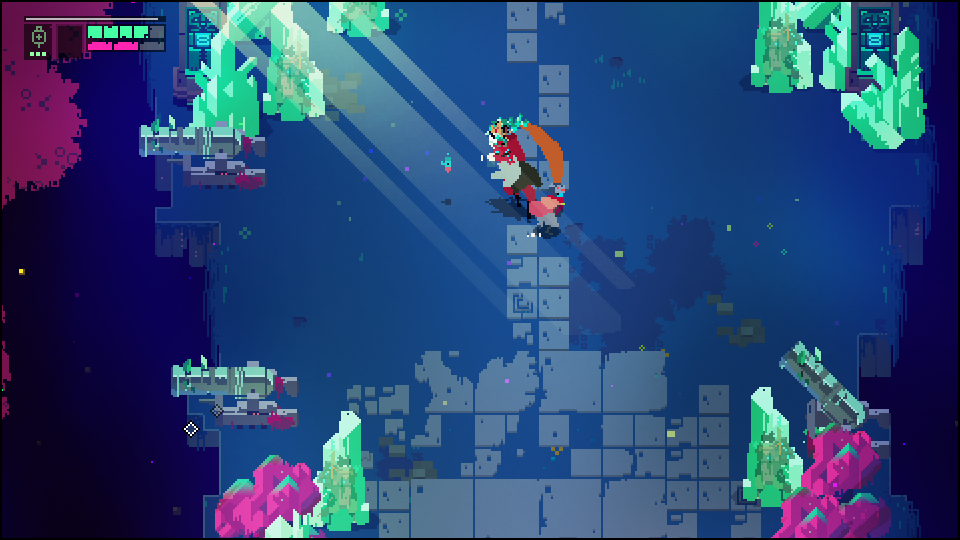hanged_man: (478, 109, 543, 207)
player: (530, 186, 570, 239)
